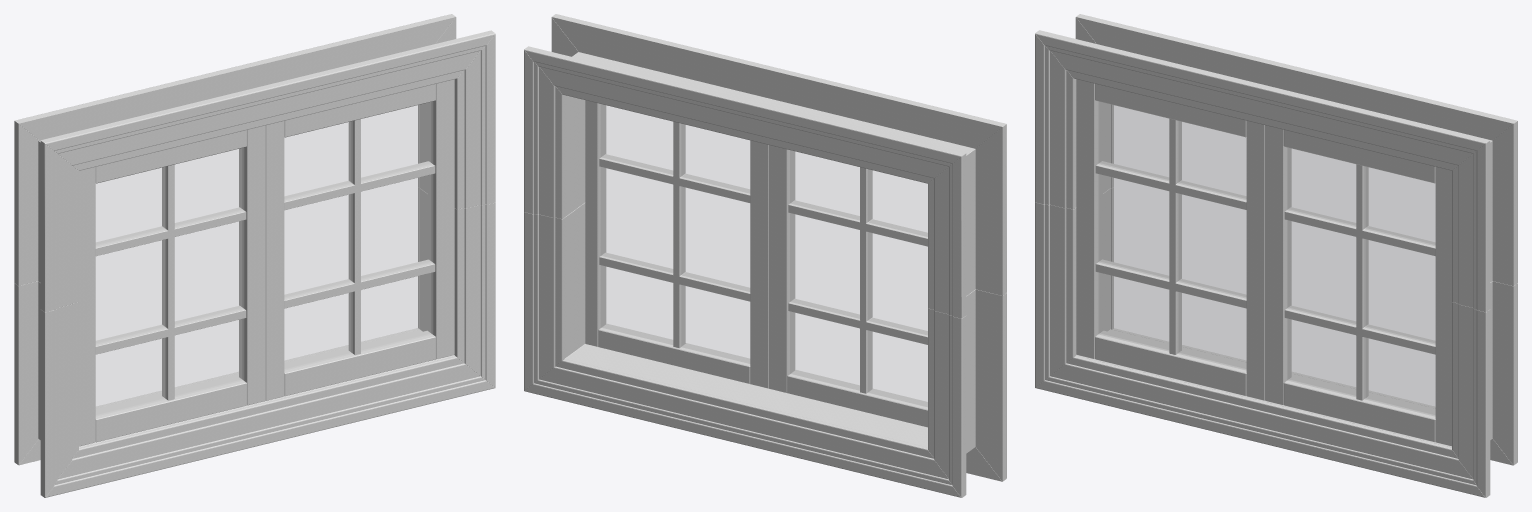
The model's file is window-white.glb.
The picture shows the model from 3 angles, left to right: view 1: azimuth 30°, elevation 25°; view 2: azimuth 150°, elevation 25°; view 3: azimuth 330°, elevation 25°; orthographic projection.
Parts seen in each view (by area): view 1: d2.008, d2.006, Plane002, d2.007, d2.005; view 2: d2.008, d2.006, d2.007, d2.005; view 3: d2.008, d2.006, Plane002, d2.005, d2.007.
Part boxes in pixels (x1,y1,x2,y2): d2.008: (14, 14, 495, 497); d2.006: (96, 102, 432, 415); Plane002: (96, 102, 430, 414); d2.007: (265, 79, 454, 400); d2.005: (79, 125, 265, 446); d2.008: (524, 14, 1006, 497); d2.006: (601, 104, 927, 406); d2.007: (585, 100, 768, 388); d2.005: (768, 145, 927, 427); d2.008: (1035, 14, 1517, 497); d2.006: (1098, 102, 1435, 415); Plane002: (1100, 102, 1434, 414); d2.005: (1076, 79, 1264, 400); d2.007: (1265, 125, 1451, 446).
Bounding box in the file's own units: 0.8 × 0.6014 × 0.1171.
2 materials, 1 textured.
